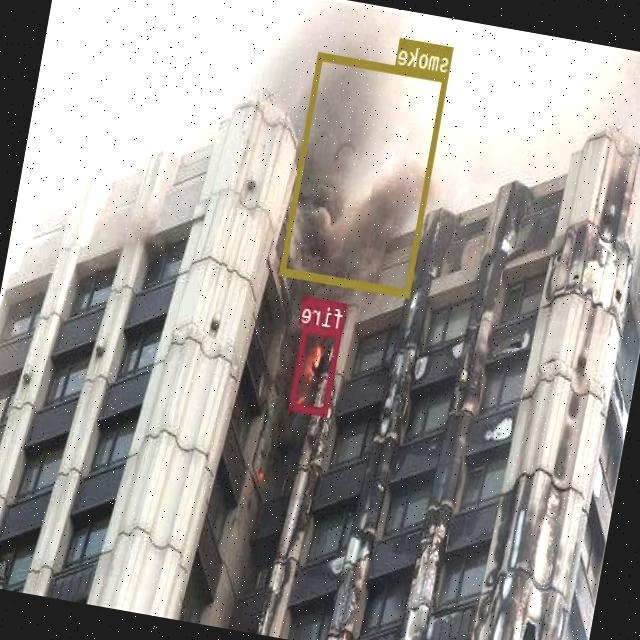fire: (290, 324, 342, 414)
smoke: (280, 51, 449, 296)
